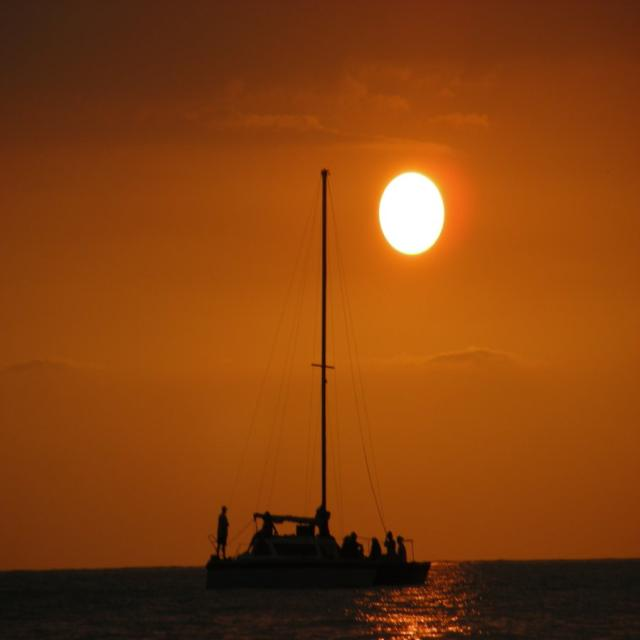Boat: (151, 148, 453, 635)
